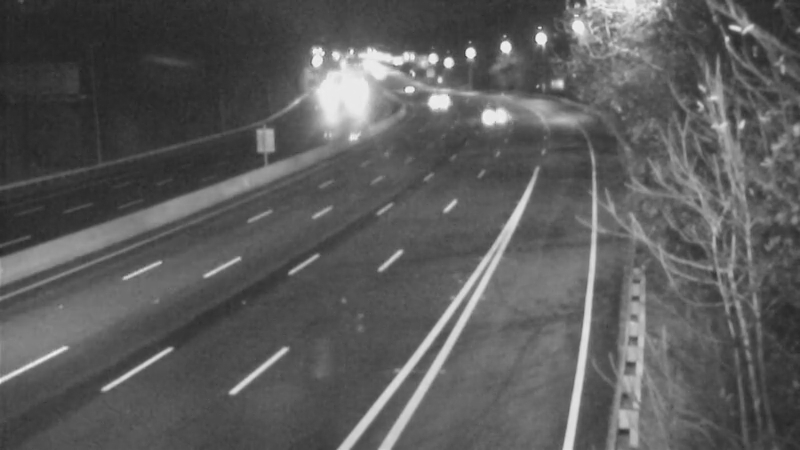vehicle: (383, 62, 433, 112), (407, 73, 457, 123), (464, 86, 514, 136)
